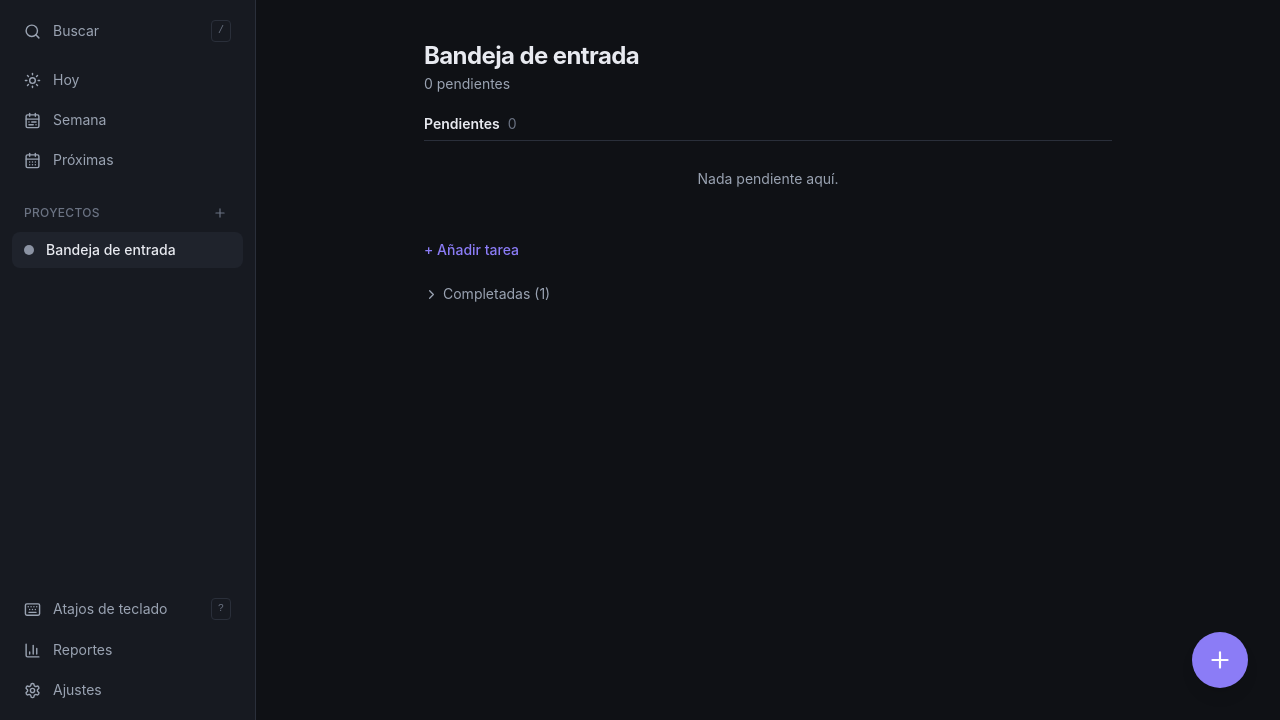
Test: reagendar desde el icono de la fila › una tarea completada no ofrece reagendar
This screenshot has width=1280, height=720.
Step 1. Click the button "Completadas (1)" → {"x": 487, "y": 294}, box [424, 284, 550, 304]
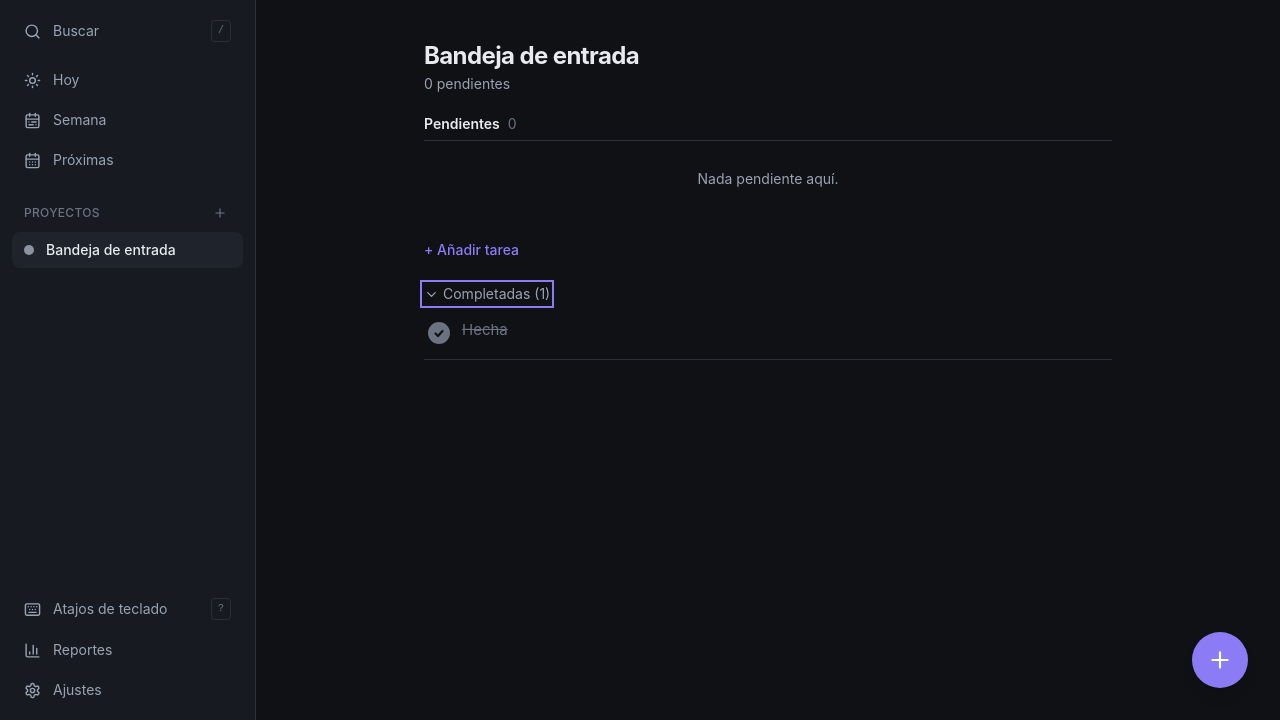
Check: the text "Hecha" is shown, box [462, 320, 508, 339]
